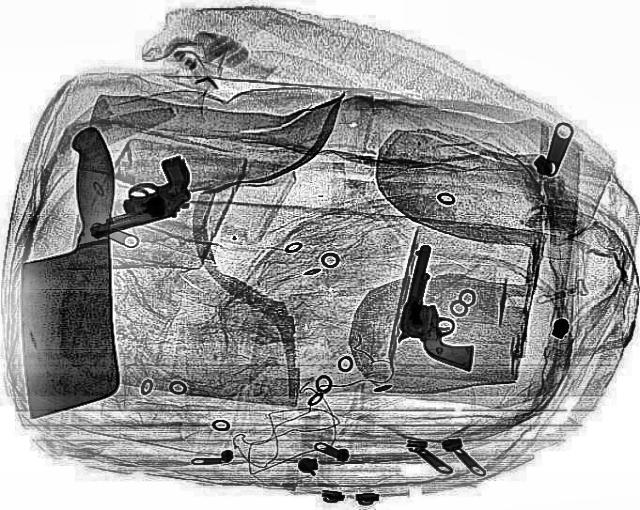Gun: (386, 243, 500, 370), (66, 154, 210, 238)
Knife: (22, 127, 116, 417)
